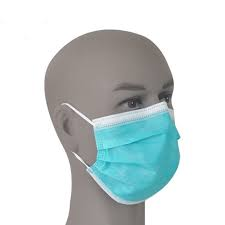flumask: (94, 110, 183, 202)
